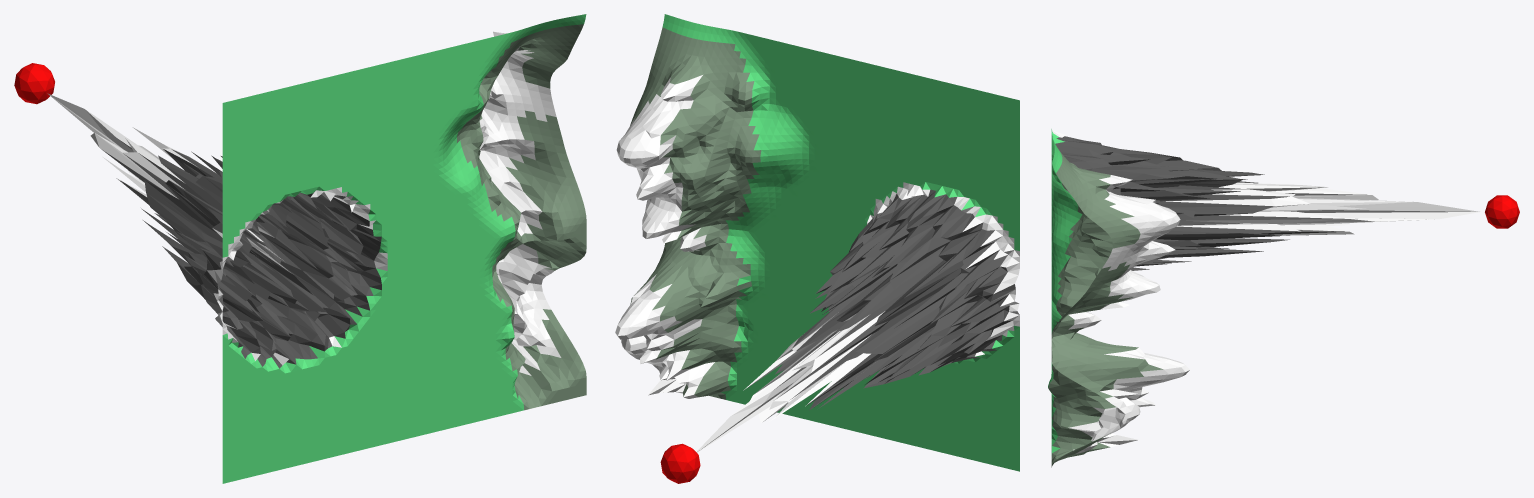
3 renders of one model, left to right at view 1: azimuth 30°, elevation 25°; view 2: azimuth 150°, elevation 25°; view 3: azimuth 270°, elevation 25°, orthographic. The views are drawn at different scales.
Visible parts, largest first — view 1: Plane, Icosphere; view 2: Plane, Icosphere; view 3: Plane, Icosphere.
Boxes of the visible parts, bbox=[...] form: Plane: bbox=[47, 14, 586, 483]; Icosphere: bbox=[14, 63, 54, 104]; Plane: bbox=[615, 14, 1019, 471]; Icosphere: bbox=[660, 443, 700, 483]; Plane: bbox=[1048, 129, 1479, 467]; Icosphere: bbox=[1485, 195, 1519, 228].
Size of the model in its own units: 9291 by 9290 by 12397.
